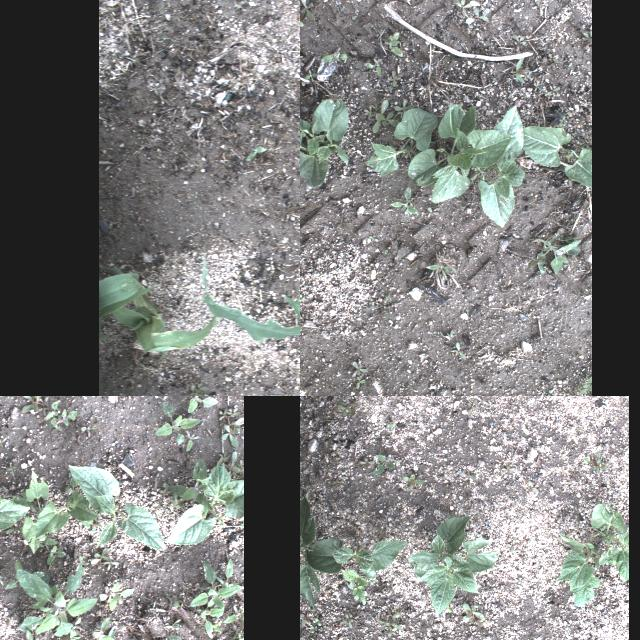crop: (200, 237, 300, 394), (100, 264, 230, 362), (406, 514, 499, 618), (64, 464, 166, 552), (556, 500, 628, 610), (166, 454, 244, 548), (469, 105, 525, 228), (13, 561, 98, 640), (408, 104, 488, 186), (432, 130, 512, 204), (364, 108, 438, 176), (300, 493, 340, 610), (522, 125, 592, 188), (300, 98, 349, 187), (22, 466, 70, 556), (99, 273, 157, 345), (332, 538, 410, 586), (0, 480, 29, 538)
weed: (183, 554, 240, 636), (149, 398, 203, 456), (525, 228, 583, 276), (220, 406, 243, 452), (44, 401, 78, 432), (103, 578, 133, 610), (342, 568, 368, 604), (389, 186, 419, 214), (462, 602, 490, 628), (171, 396, 219, 410), (376, 612, 404, 636), (89, 617, 117, 640), (372, 99, 390, 133), (19, 396, 44, 420), (44, 542, 68, 566), (370, 453, 396, 475), (90, 551, 120, 569), (383, 32, 402, 58), (466, 5, 490, 25), (24, 626, 55, 640), (590, 451, 608, 475), (514, 57, 530, 83), (401, 474, 424, 492), (424, 266, 452, 280), (374, 112, 398, 128), (363, 58, 382, 78), (158, 618, 184, 632), (336, 400, 358, 416), (166, 592, 180, 616), (246, 144, 266, 160), (450, 340, 466, 360), (78, 421, 98, 437), (350, 359, 368, 376), (183, 383, 206, 396), (62, 626, 83, 640), (147, 604, 163, 622), (337, 611, 353, 629), (453, 0, 472, 15), (320, 52, 348, 62), (386, 70, 400, 90), (394, 100, 414, 114), (212, 631, 242, 640), (8, 454, 18, 480), (510, 32, 528, 46), (578, 376, 592, 394), (300, 0, 313, 19), (380, 295, 390, 319), (165, 632, 194, 640), (467, 398, 478, 417), (458, 471, 478, 481), (304, 68, 318, 82), (439, 328, 456, 339), (534, 0, 546, 15), (357, 458, 375, 468), (500, 465, 518, 475), (469, 0, 488, 9), (546, 84, 560, 96), (528, 479, 540, 493), (548, 52, 560, 64), (427, 206, 439, 218), (582, 30, 592, 44), (364, 104, 374, 118), (356, 376, 366, 389), (557, 115, 567, 127), (386, 421, 396, 432), (313, 616, 321, 628), (370, 102, 380, 111), (368, 234, 378, 242), (343, 396, 358, 401), (582, 453, 590, 462), (508, 90, 518, 96), (544, 389, 551, 396), (534, 82, 540, 90), (588, 24, 592, 36), (300, 613, 304, 625), (310, 624, 314, 634), (300, 20, 303, 33), (568, 61, 574, 67), (528, 70, 532, 78), (568, 179, 572, 187), (300, 294, 304, 302), (384, 250, 388, 254)
